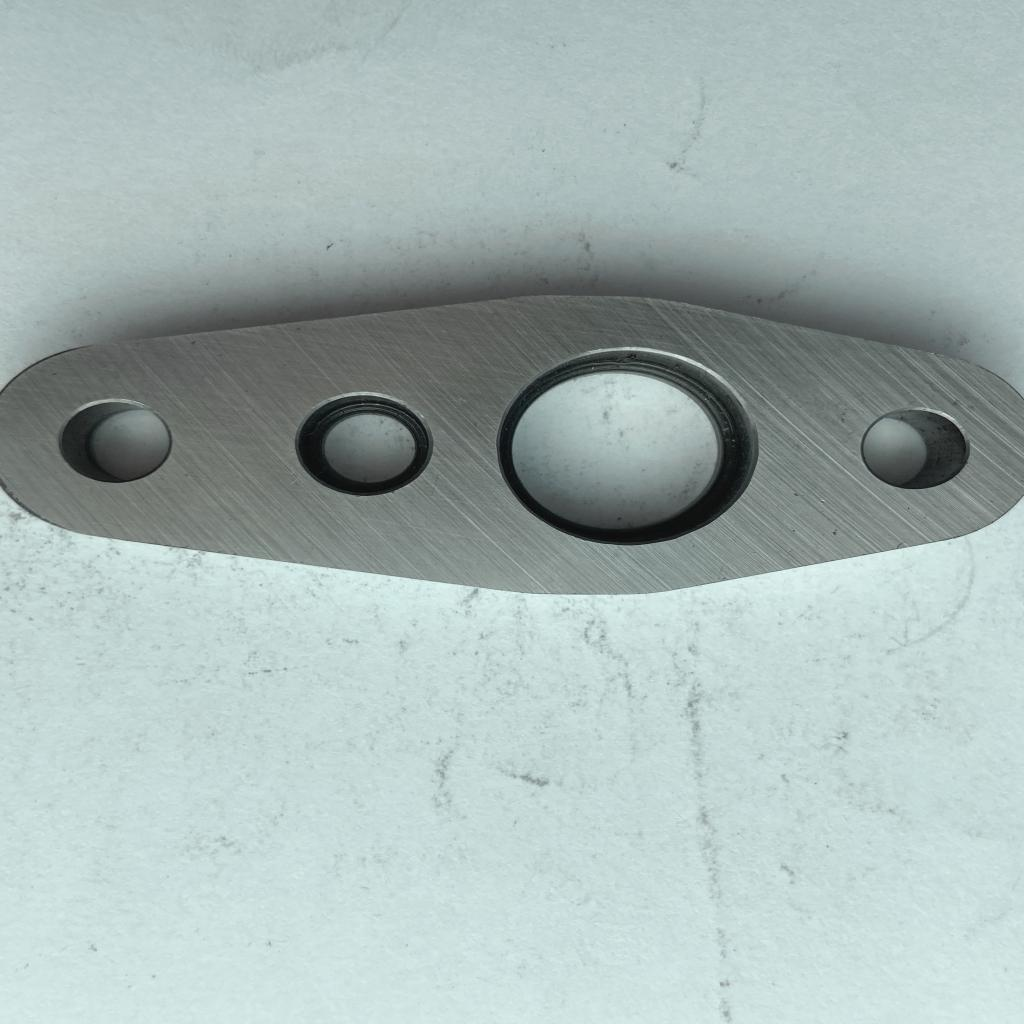chap: (814, 496, 829, 508)
